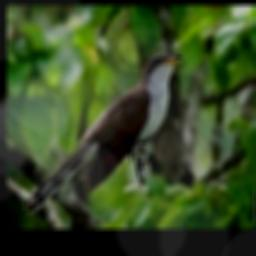Cuckoo: (24, 52, 183, 215)
